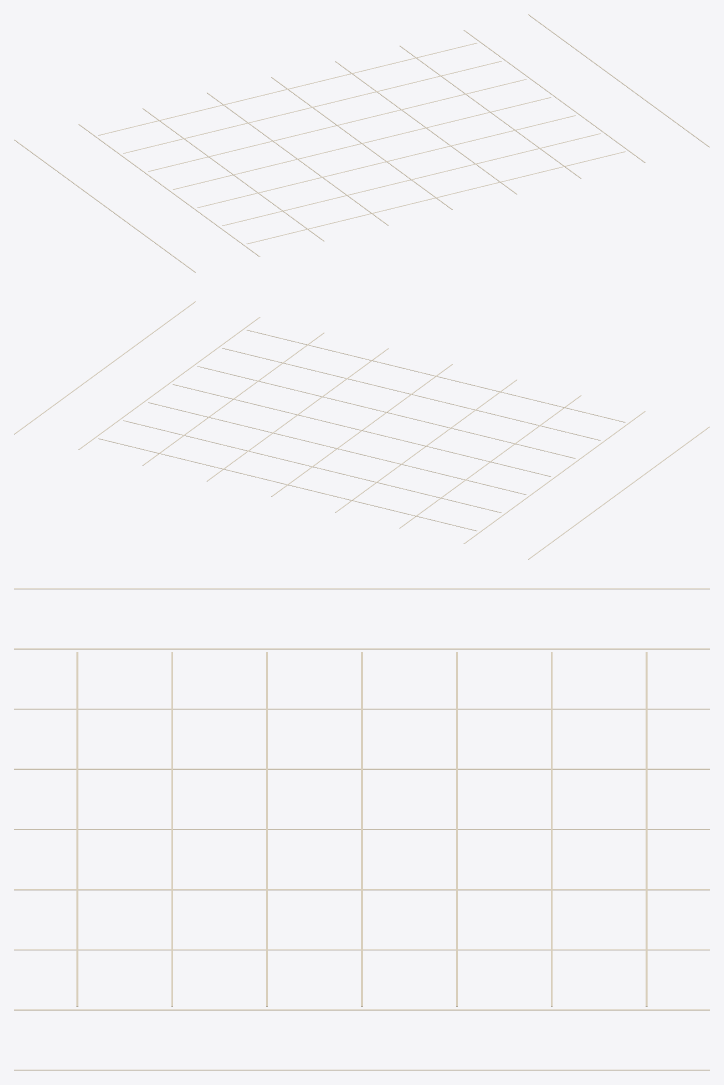
The picture shows the model from 3 angles, top to bottom: view 1: azimuth 30°, elevation 25°; view 2: azimuth 150°, elevation 25°; view 3: azimuth 270°, elevation 25°; orthographic projection. The views are drawn at different scales.
Visible parts, largest first — view 1: Grout Y.005, Grout Y.006, Grout Y.004, Grout Y, Grout Y.003, Grout Y.001, Grout Y.002; view 2: Grout Y.006, Grout Y.004, Grout Y.005, Grout Y, Grout Y.002, Grout Y.001, Grout Y.003; view 3: Grout X, Grout X.001, Grout X.007, Grout X.008, Grout X.002, Grout X.003, Grout X.006, Grout X.005, Grout Y.006, Grout Y.
Part boxes in pixels (box(x1,y1,x2,y2)): Grout Y.005: box(123, 61, 501, 153); Grout Y.006: box(98, 43, 476, 135); Grout Y.004: box(148, 79, 526, 171); Grout Y: box(247, 151, 625, 243); Grout Y.003: box(173, 97, 550, 189); Grout Y.001: box(222, 133, 600, 225); Grout Y.002: box(197, 115, 575, 207); Grout Y.006: box(98, 438, 476, 530); Grout Y.004: box(148, 402, 526, 494); Grout Y.005: box(123, 420, 501, 512); Grout Y: box(247, 330, 625, 422); Grout Y.002: box(197, 366, 575, 458); Grout Y.001: box(222, 348, 600, 440); Grout Y.003: box(173, 384, 550, 476); Grout X: box(14, 588, 709, 589); Grout X.001: box(14, 648, 709, 649); Grout X.007: box(14, 1009, 709, 1010); Grout X.008: box(14, 1069, 709, 1070); Grout X.002: box(14, 708, 709, 709); Grout X.003: box(14, 768, 709, 769); Grout X.006: box(14, 949, 709, 950); Grout X.005: box(14, 889, 709, 890); Grout Y.006: box(645, 652, 647, 1006); Grout Y: box(76, 652, 78, 1006).
Size of the model in its own units: 721 by 0.3001 by 440.
